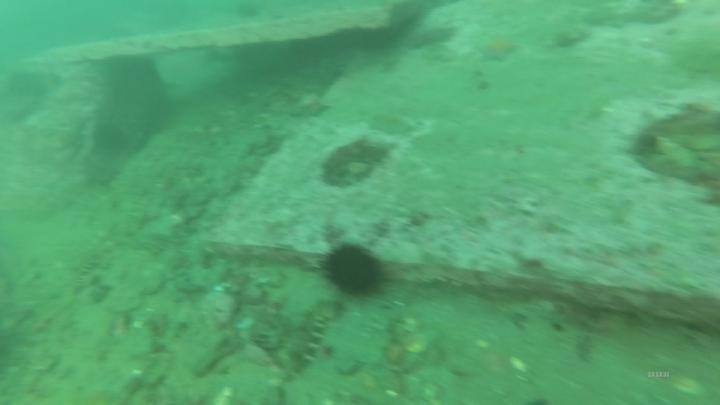echinus: (317, 238, 390, 302)
holothurian: (271, 294, 340, 384)
starfish: (473, 30, 523, 66)
